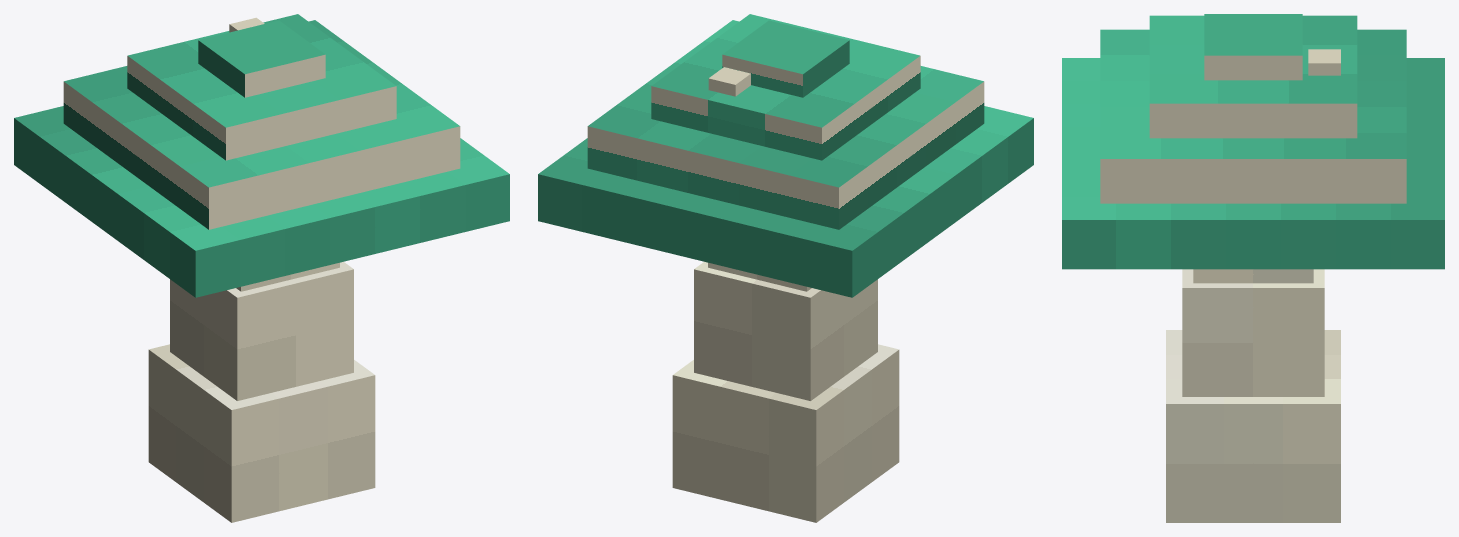
File: glowcap.gltf
3 views of the same model, side by side, from view 1: azimuth 30°, elevation 25°; view 2: azimuth 150°, elevation 25°; view 3: azimuth 270°, elevation 25° (orthographic). The views are drawn at different scales.
Parts seen in each view (by area): view 1: cap_rim, cap_mid, stem_base, cap_top, stem_mid, cap_crown, stem_top; view 2: cap_rim, cap_mid, stem_base, stem_mid, cap_top, cap_crown, glow_c, stem_top; view 3: cap_rim, cap_mid, stem_base, cap_top, stem_mid, cap_crown, stem_top, glow_c.
Boxes of the visible parts, bbox=[...] form: cap_rim: bbox=[14, 106, 509, 297]; cap_mid: bbox=[63, 20, 460, 229]; stem_base: bbox=[148, 344, 375, 522]; cap_top: bbox=[127, 14, 396, 160]; stem_mid: bbox=[170, 261, 353, 400]; cap_crown: bbox=[198, 20, 325, 97]; stem_top: bbox=[236, 262, 339, 291]; cap_rim: bbox=[538, 106, 1033, 297]; cap_mid: bbox=[587, 20, 984, 229]; stem_base: bbox=[672, 344, 899, 522]; stem_mid: bbox=[694, 261, 877, 400]; cap_top: bbox=[651, 14, 920, 160]; cap_crown: bbox=[722, 20, 849, 97]; glow_c: bbox=[708, 67, 750, 96]; stem_top: bbox=[708, 262, 811, 291]; cap_rim: bbox=[1062, 58, 1444, 269]; cap_mid: bbox=[1100, 29, 1406, 203]; stem_base: bbox=[1166, 330, 1340, 522]; cap_top: bbox=[1149, 15, 1357, 138]; stem_mid: bbox=[1182, 269, 1324, 396]; cap_crown: bbox=[1204, 14, 1302, 80]; stem_top: bbox=[1193, 269, 1313, 283]; glow_c: bbox=[1308, 49, 1340, 75].
Size of the model in its own units: 0.4375 by 0.5687 by 0.4375.
Materials: 1 (1 with a texture image).
